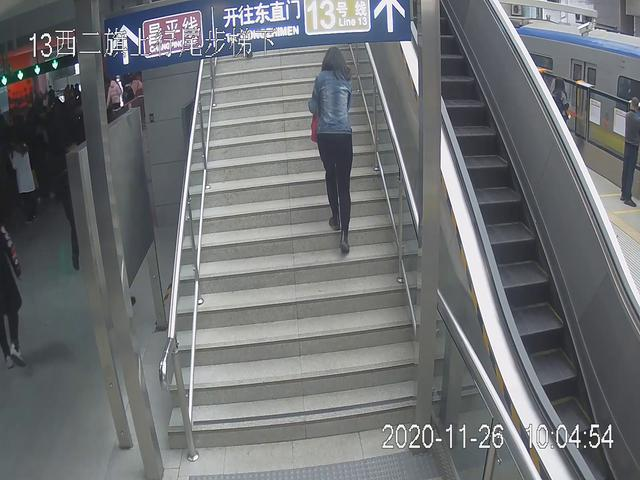person: (309, 42, 357, 258)
